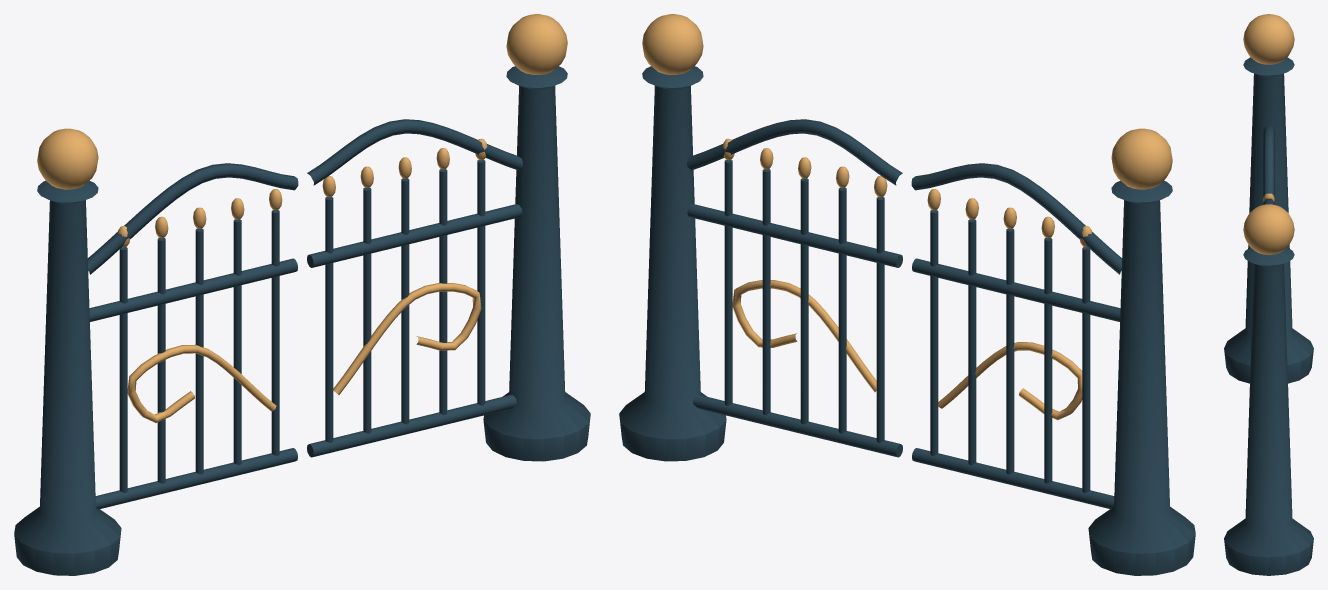
File: storybook-christmas-market-scrollwork-garden-gate-2abb98fd__19704.glb
3 renders of one model, left to right at view 1: azimuth 30°, elevation 25°; view 2: azimuth 150°, elevation 25°; view 3: azimuth 270°, elevation 25°, orthographic. The views are drawn at different scales.
Visible parts, largest first — view 1: scrollwork-garden-gate; view 2: scrollwork-garden-gate; view 3: scrollwork-garden-gate.
Part boxes in pixels (<box>): scrollwork-garden-gate: <box>14,14,590,575</box>; scrollwork-garden-gate: <box>619,14,1195,575</box>; scrollwork-garden-gate: <box>1224,14,1313,575</box>.
Size of the model in its own units: 2.52 by 1.81 by 0.4199.
